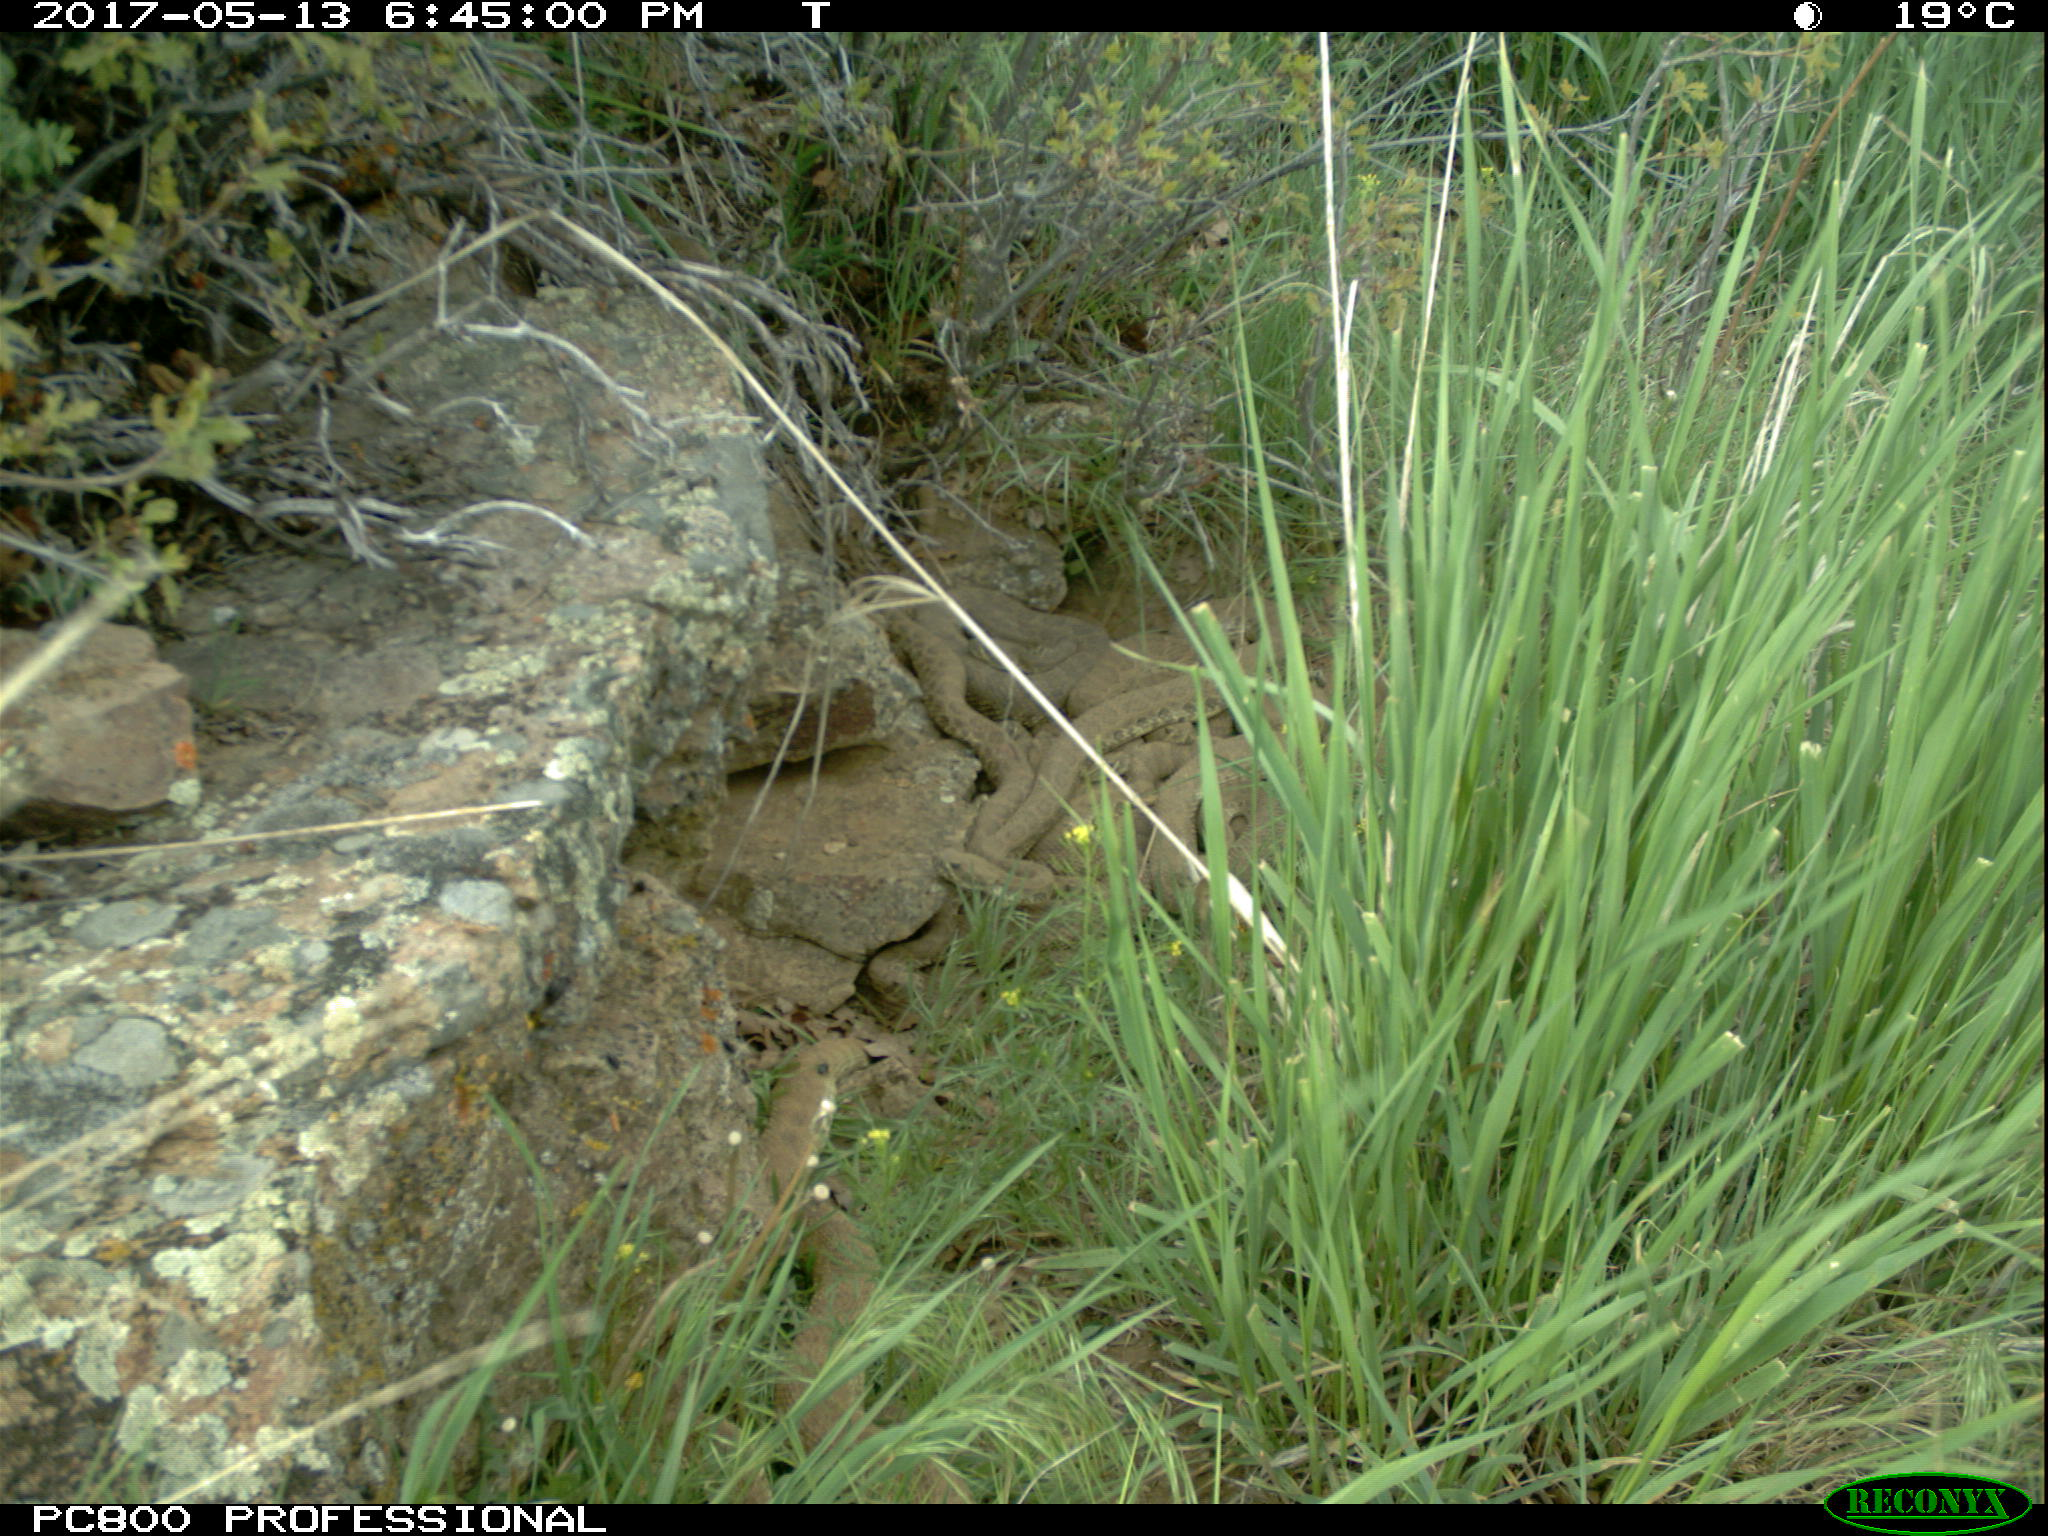snake: (766, 1034, 871, 1462), (874, 607, 1121, 733), (1030, 662, 1208, 799), (1150, 752, 1280, 900), (963, 716, 1053, 899), (866, 939, 940, 1004)
